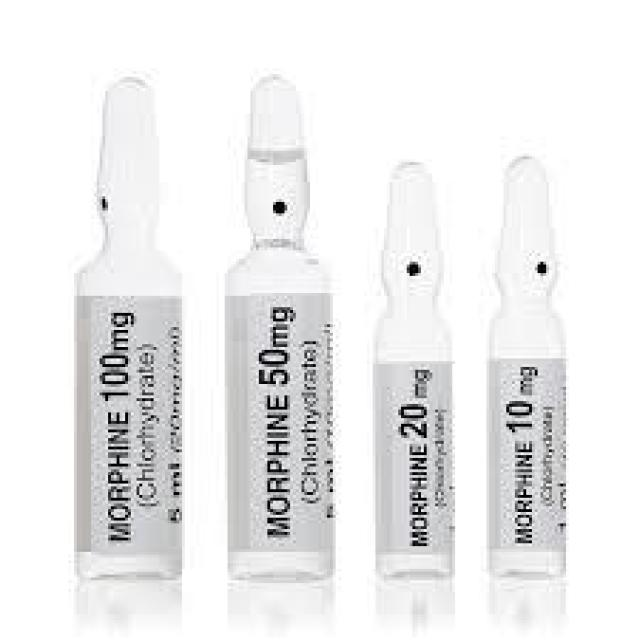B3: (48, 62, 208, 598), (214, 66, 358, 592), (358, 151, 472, 594), (481, 154, 589, 597)
